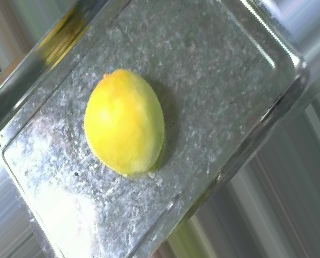Mango: (83, 67, 174, 180)
